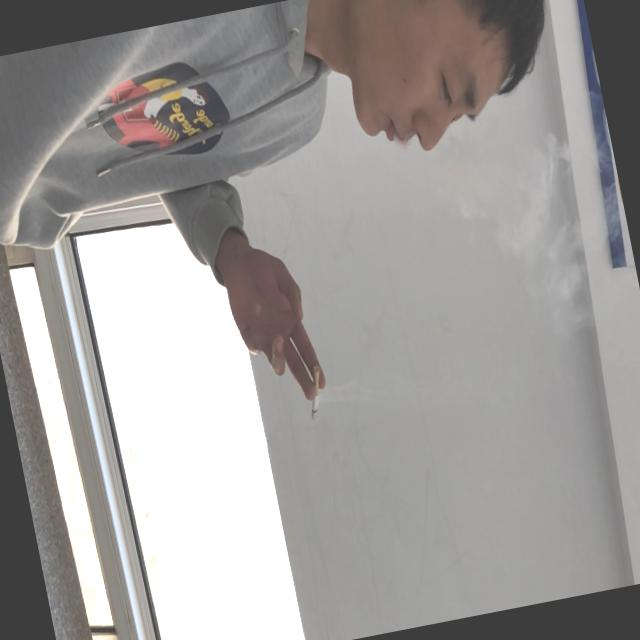smoke: (301, 363, 330, 423)
